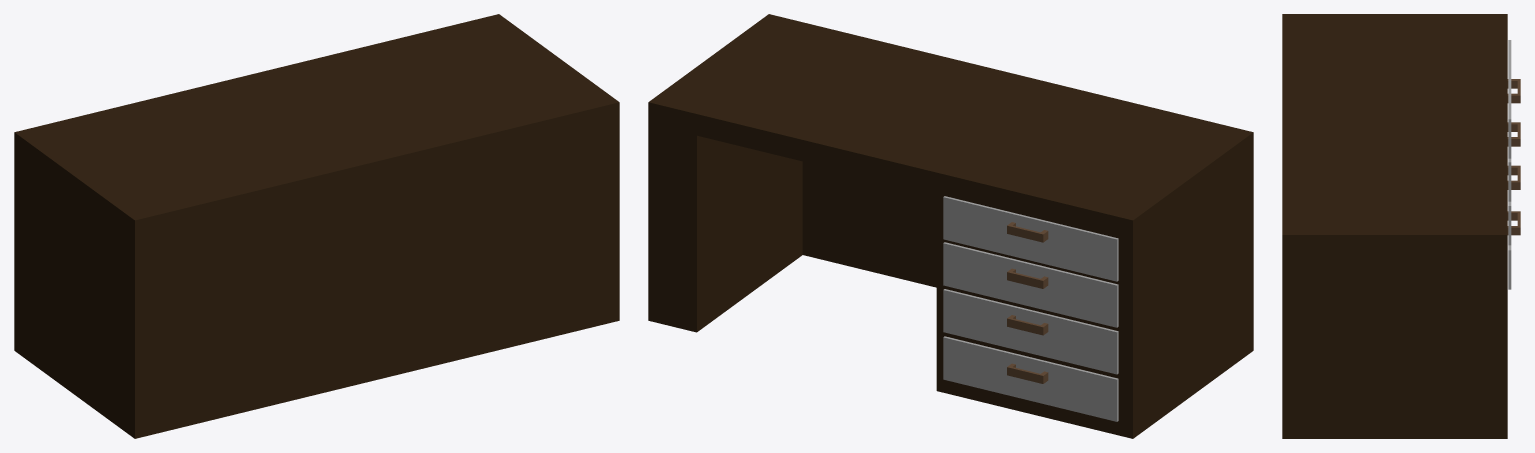
Rendered from desk_01.fbx.
The picture shows the model from 3 angles, left to right: view 1: azimuth 30°, elevation 25°; view 2: azimuth 150°, elevation 25°; view 3: azimuth 270°, elevation 25°; orthographic projection. The views are drawn at different scales.
Visible parts, largest first — view 1: Desk1; view 2: Desk1; view 3: Desk1.
Part boxes in pixels (x1=…): Desk1: x1=14, y1=14, x2=619, y2=438; Desk1: x1=648, y1=14, x2=1253, y2=438; Desk1: x1=1282, y1=14, x2=1520, y2=438.
Size of the model in its own units: 235 by 101 by 107.
